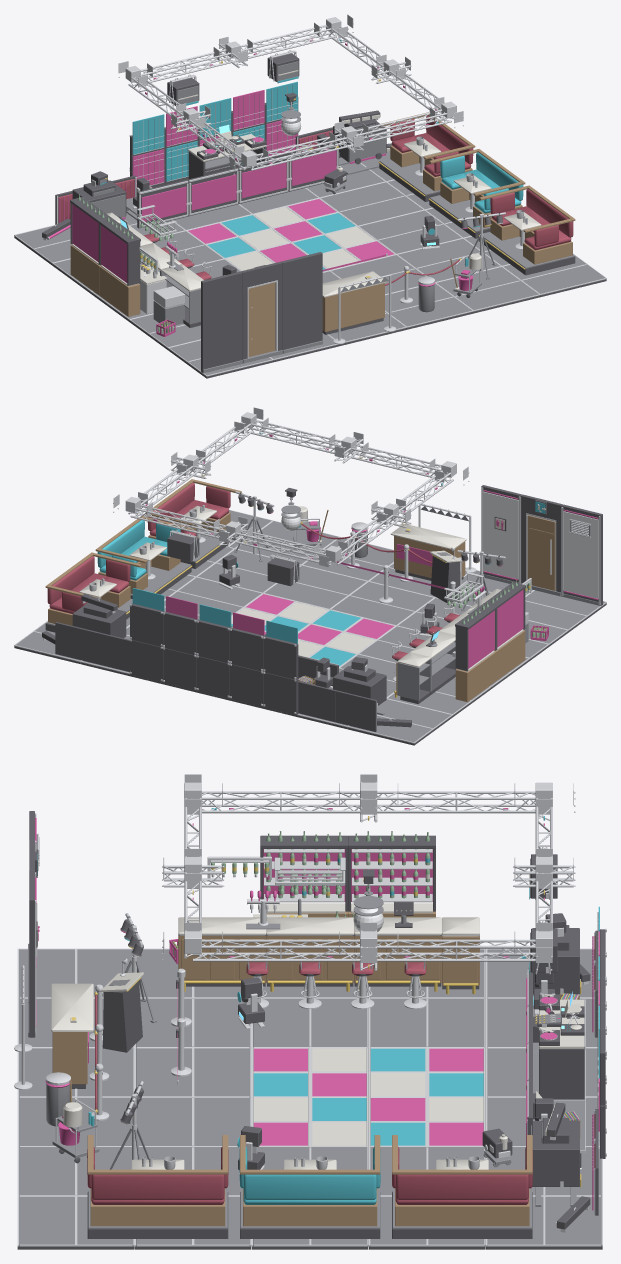
Rendered from radion_club.glb.
3 renders of one model, top to bottom at view 1: azimuth 30°, elevation 25°; view 2: azimuth 150°, elevation 25°; view 3: azimuth 270°, elevation 25°, orthographic. The views are drawn at different scales.
Visible parts, largest first — view 1: 126-mirror-wall-panel-module/0, 128-mirror-wall-panel-module/0, 017-dance-floor-tile-module/1, 125-raised-seating-booth/4, 132-cloakroom-counter-with-rails/0, 020-dance-floor-tile-module/1, 018-dance-floor-tile-module/1, 124-raised-seating-booth-cyan/4, 127-entrance-door-module/door, 019-dance-floor-tile-module/1, 125-raised-seating-booth/3, 015-dance-floor-tile-module/1 (+76 smaller); view 2: 128-mirror-wall-panel-module/1, 126-mirror-wall-panel-module/1, 011-dance-floor-tile-module/1, 014-dance-floor-tile-module/1, 123-raised-seating-booth/4, 127-entrance-door-module/door, 000-dance-floor-tile-module/1, 004-dance-floor-tile-module/1, 018-dance-floor-tile-module/1, 124-raised-seating-booth-cyan/4, 125-raised-seating-booth/4, 019-dance-floor-tile-module/1 (+77 smaller); view 3: 006-dance-floor-tile-module/1, 011-dance-floor-tile-module/1, 014-dance-floor-tile-module/1, 007-dance-floor-tile-module/1, 008-dance-floor-tile-module/1, 124-raised-seating-booth-cyan/4, 125-raised-seating-booth/4, 125-raised-seating-booth/3, 123-raised-seating-booth/4, 124-raised-seating-booth-cyan/3, 123-raised-seating-booth/3, 020-dance-floor-tile-module/1 (+90 smaller).
Part boxes in pixels (<box>): 126-mirror-wall-panel-module/0: <box>201,271,242,372</box>; 128-mirror-wall-panel-module/0: <box>281,252,322,349</box>; 017-dance-floor-tile-module/1: <box>321,182,422,225</box>; 125-raised-seating-booth/4: <box>490,189,573,250</box>; 132-cloakroom-counter-with-rails/0: <box>322,283,384,331</box>; 020-dance-floor-tile-module/1: <box>437,267,538,309</box>; 018-dance-floor-tile-module/1: <box>359,210,461,253</box>; 124-raised-seating-booth-cyan/4: <box>440,152,523,213</box>; 127-entrance-door-module/door: <box>248,282,275,356</box>; 019-dance-floor-tile-module/1: <box>398,239,499,281</box>; 125-raised-seating-booth/3: <box>479,185,575,264</box>; 015-dance-floor-tile-module/1: <box>385,284,471,326</box>; 128-mirror-wall-panel-module/1: <box>483,491,518,579</box>; 126-mirror-wall-panel-module/1: <box>563,511,598,598</box>; 011-dance-floor-tile-module/1: <box>331,582,433,624</box>; 014-dance-floor-tile-module/1: <box>265,565,366,608</box>; 123-raised-seating-booth/4: <box>47,556,130,613</box>; 127-entrance-door-module/door: <box>527,515,555,590</box>; 000-dance-floor-tile-module/1: <box>349,699,450,742</box>; 004-dance-floor-tile-module/1: <box>525,590,605,629</box>; 018-dance-floor-tile-module/1: <box>164,577,261,615</box>; 124-raised-seating-booth-cyan/4: <box>97,520,180,580</box>; 125-raised-seating-booth/4: <box>147,482,230,536</box>; 019-dance-floor-tile-module/1: <box>198,549,299,592</box>; 006-dance-floor-tile-module/1: <box>370,998,484,1047</box>; 011-dance-floor-tile-module/1: <box>136,1048,250,1097</box>; 014-dance-floor-tile-module/1: <box>136,1097,250,1145</box>; 007-dance-floor-tile-module/1: <box>253,998,367,1047</box>; 008-dance-floor-tile-module/1: <box>136,998,250,1047</box>; 124-raised-seating-booth-cyan/4: <box>239,1146,380,1204</box>; 125-raised-seating-booth/4: <box>87,1147,228,1204</box>; 125-raised-seating-booth/3: <box>87,1135,228,1226</box>; 123-raised-seating-booth/4: <box>392,1147,532,1204</box>; 124-raised-seating-booth-cyan/3: <box>240,1135,380,1226</box>; 123-raised-seating-booth/3: <box>392,1135,532,1226</box>; 020-dance-floor-tile-module/1: <box>19,1147,131,1195</box>.
Size of the model in its own units: 12 by 4.54 by 10.13.
